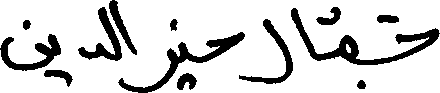ا: (290, 6, 316, 74), (92, 2, 120, 61), (110, 0, 137, 52)
ج: (357, 26, 438, 90)
ح: (205, 29, 240, 64)
د: (76, 37, 99, 60)
ر: (243, 5, 292, 83)
ز: (135, 17, 174, 92)
م: (337, 31, 357, 67)
ن: (0, 18, 49, 77)
ي: (46, 31, 72, 86), (177, 39, 192, 89)
